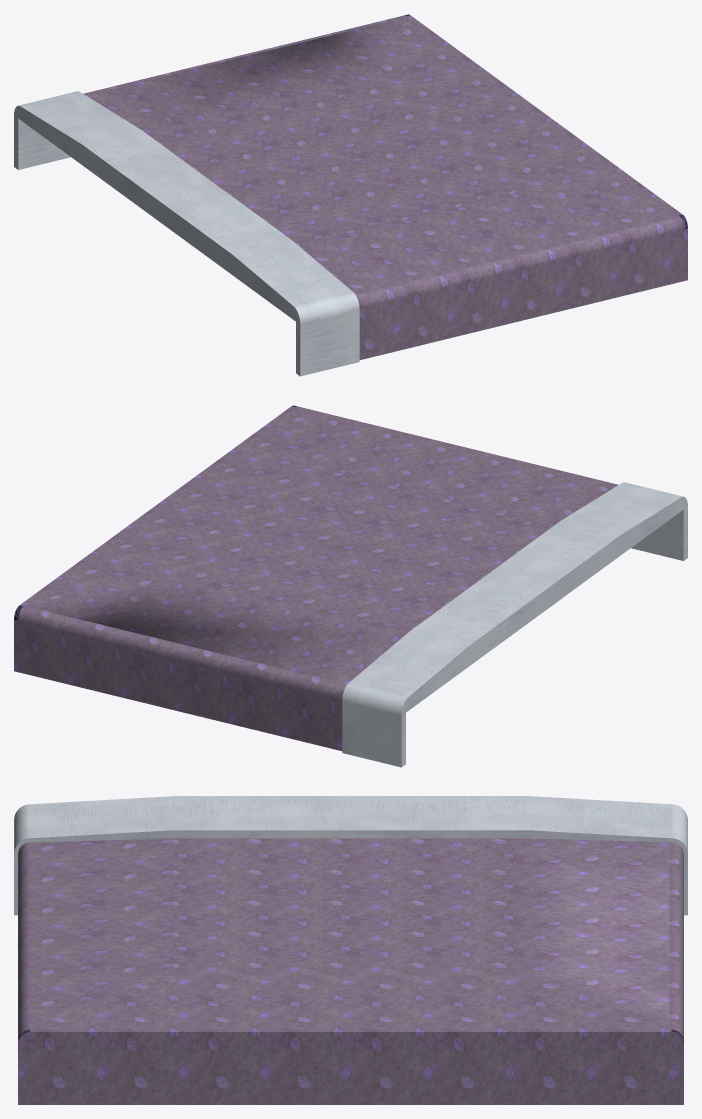
The picture shows the model from 3 angles, top to bottom: view 1: azimuth 30°, elevation 25°; view 2: azimuth 150°, elevation 25°; view 3: azimuth 270°, elevation 25°; orthographic projection. The views are drawn at different scales.
Visible parts, largest first — view 1: Mesh1_Bedding_Duvay1_Model; view 2: Mesh1_Bedding_Duvay1_Model; view 3: Mesh1_Bedding_Duvay1_Model.
Boxes of the visible parts, left/top/right/bottom form: Mesh1_Bedding_Duvay1_Model: left=14, top=14, right=687, bottom=376; Mesh1_Bedding_Duvay1_Model: left=14, top=405, right=687, bottom=767; Mesh1_Bedding_Duvay1_Model: left=14, top=796, right=687, bottom=1104.
Size of the model in its own units: 0.75 by 0.133 by 0.9551.
4 materials, 3 textured.
